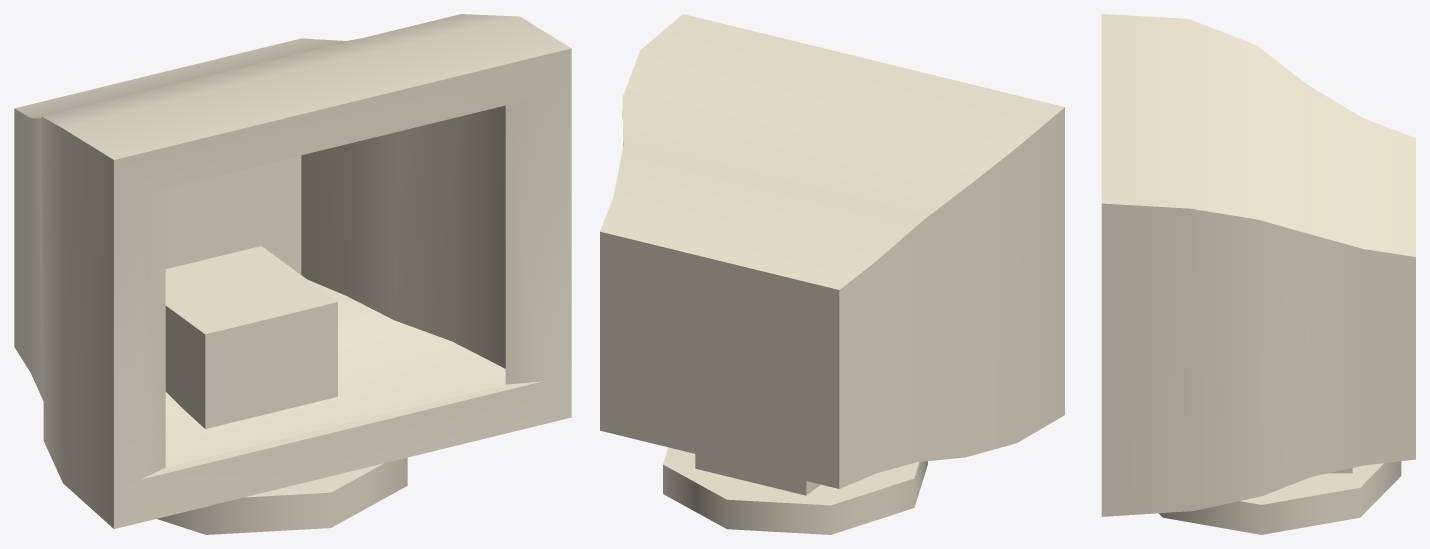
The model's file is SM_Monitor.fbx.
The picture shows the model from 3 angles, left to right: view 1: azimuth 30°, elevation 25°; view 2: azimuth 150°, elevation 25°; view 3: azimuth 270°, elevation 25°; orthographic projection. The views are drawn at different scales.
Visible parts, largest first — view 1: SM_Monitor; view 2: SM_Monitor; view 3: SM_Monitor.
Boxes of the visible parts, box(x1,y1,x2,y2) form: SM_Monitor: box(14, 14, 571, 534); SM_Monitor: box(600, 14, 1064, 534); SM_Monitor: box(1101, 14, 1415, 534).
Bounding box in the file's own units: 0.7515 × 0.6787 × 0.5407.
